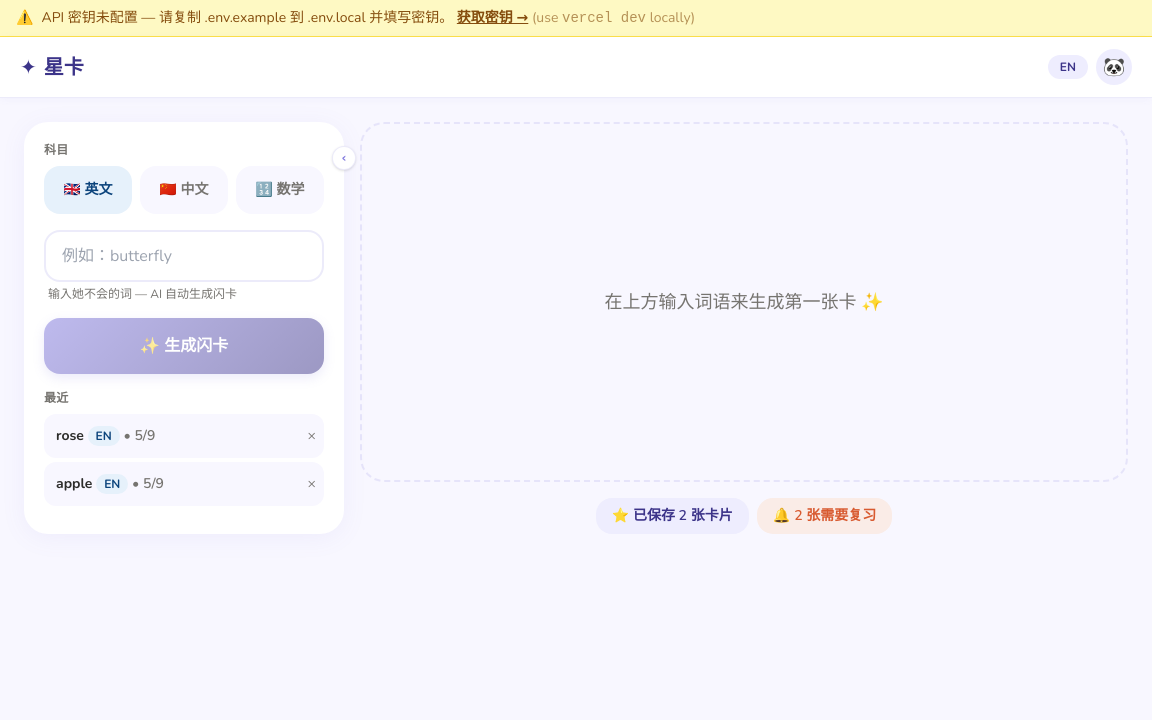
Test: App handleDeleteCard › does not clear currentCard when a different card is deleted
Click the button labelled "apple EN • 5/9" at (170, 484), box [44,466,296,502]
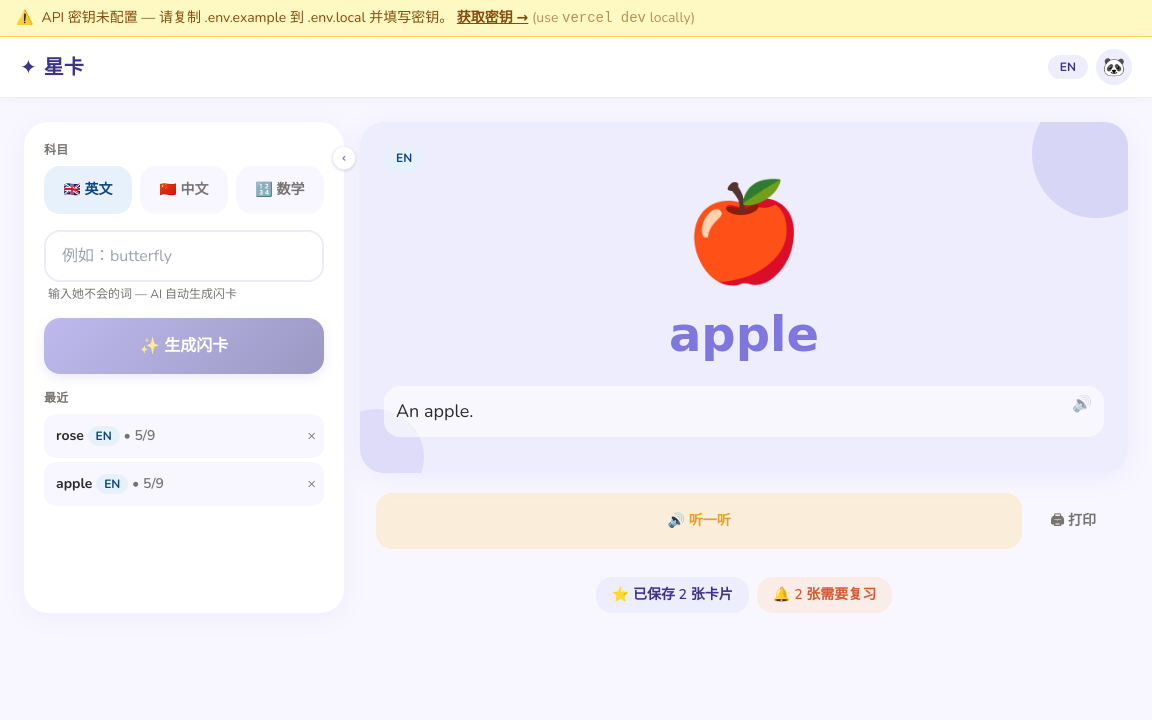
Expected: the button named "Delete apple" is shown, [300,470,324,498]
Note: Delete card2 (not the current one)
Click the button named "Delete rose" at (312, 436), box [300,422,324,450]
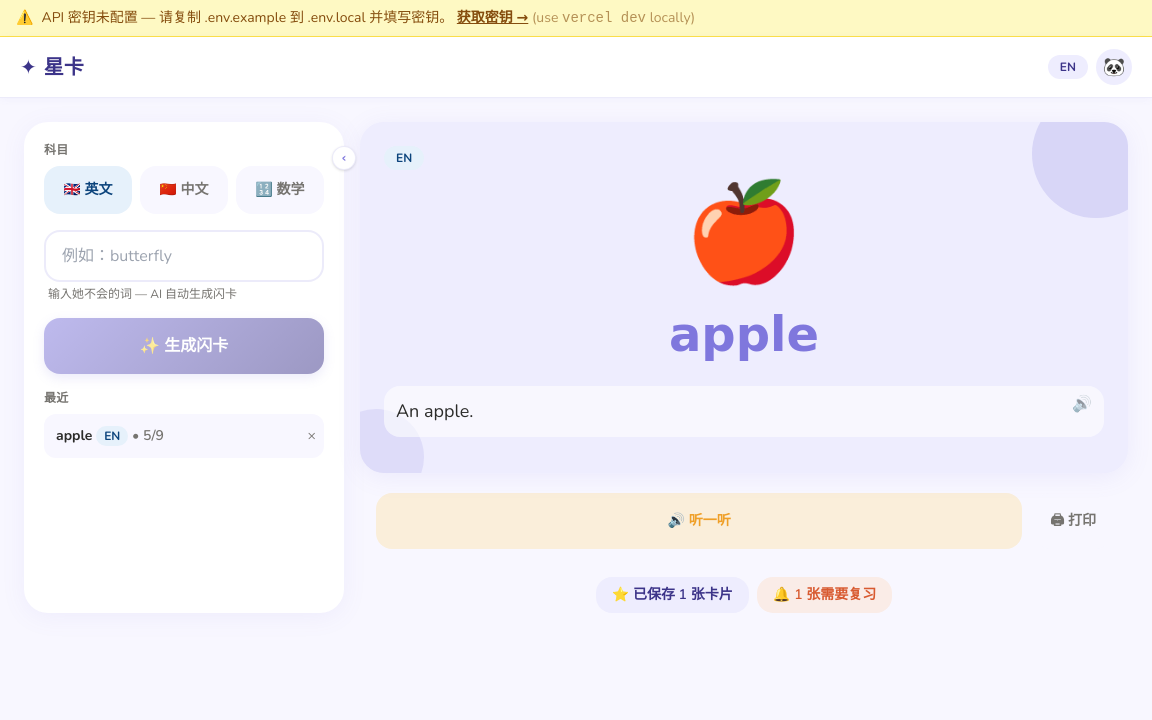
Now no buttons labelled "Delete rose" are shown
